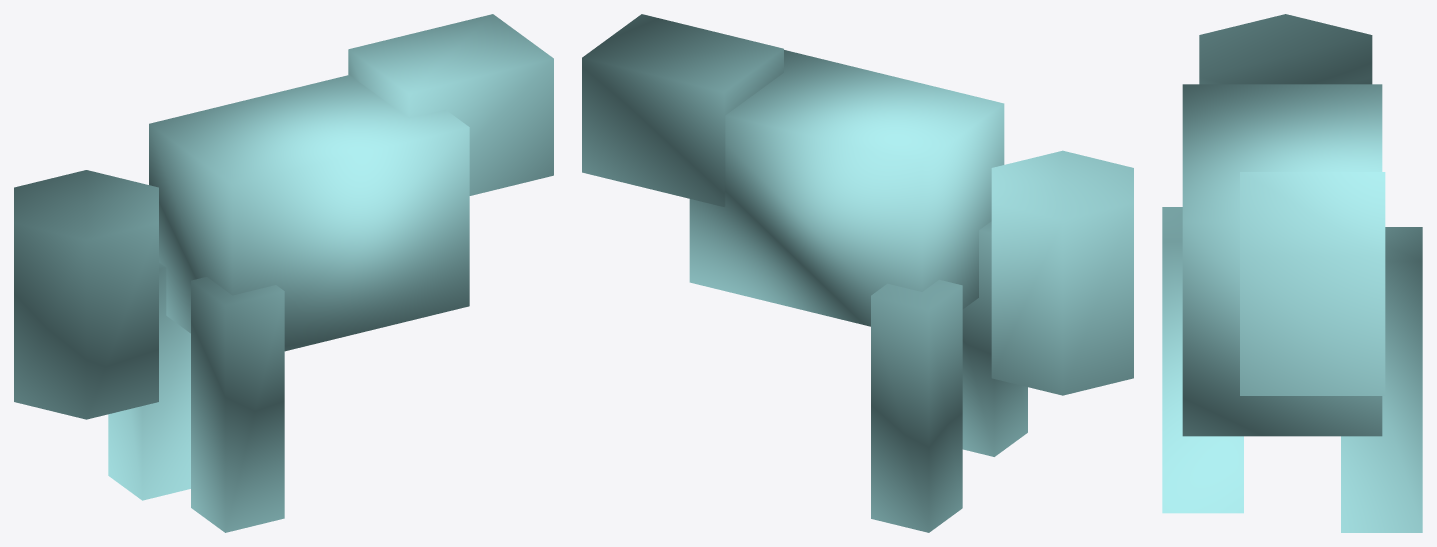
File: ps2_jrpg_coastal_sea_serpent_enemy.obj
The picture shows the model from 3 angles, left to right: view 1: azimuth 30°, elevation 25°; view 2: azimuth 150°, elevation 25°; view 3: azimuth 270°, elevation 25°; orthographic projection. The views are drawn at different scales.
Size of the model in its own units: 1.58 by 1.11 by 0.5739.
